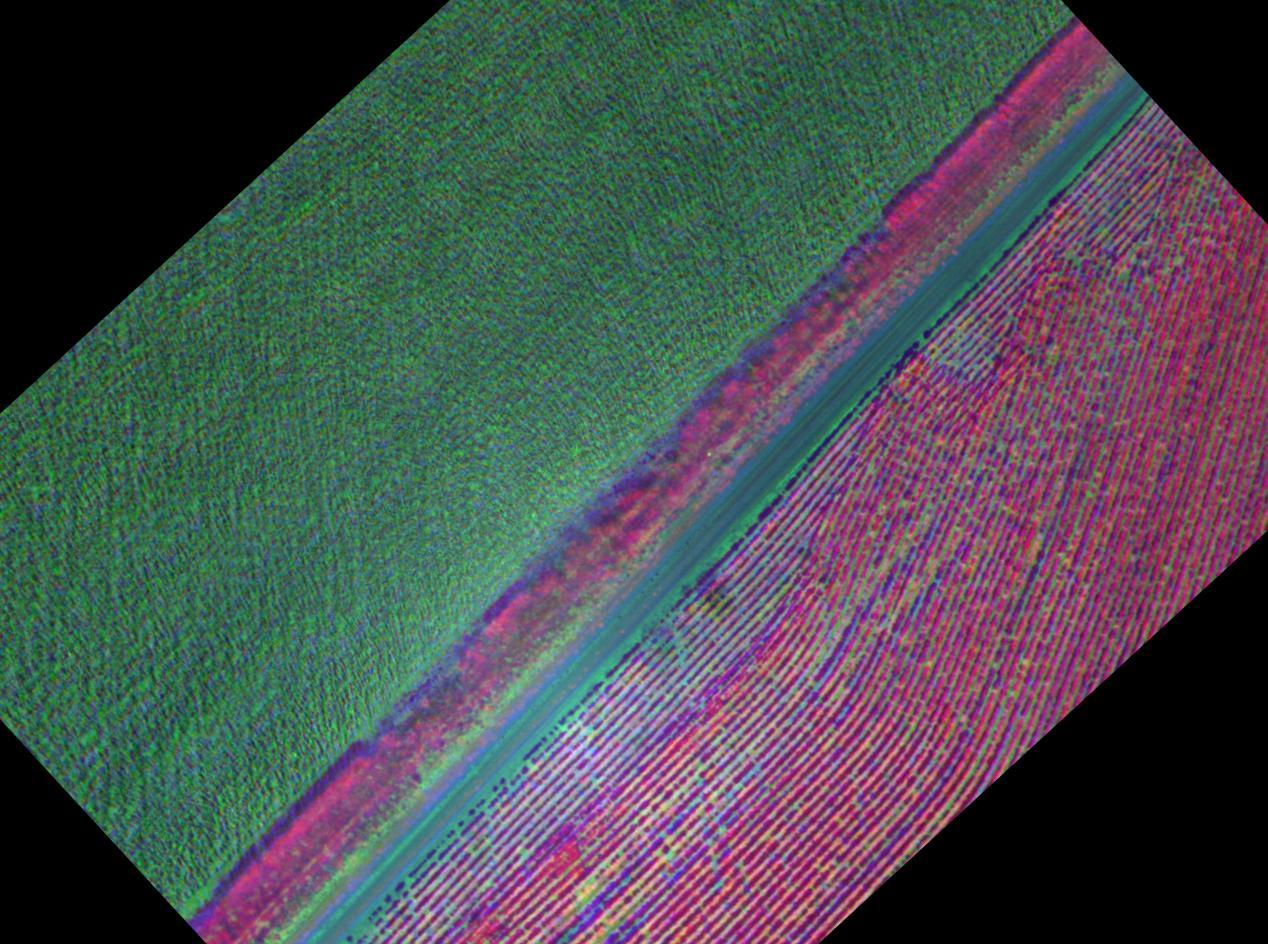dc: (582, 894, 593, 904), (1177, 254, 1185, 266), (582, 728, 594, 736), (589, 882, 602, 889), (1121, 269, 1130, 279), (608, 922, 618, 929)
